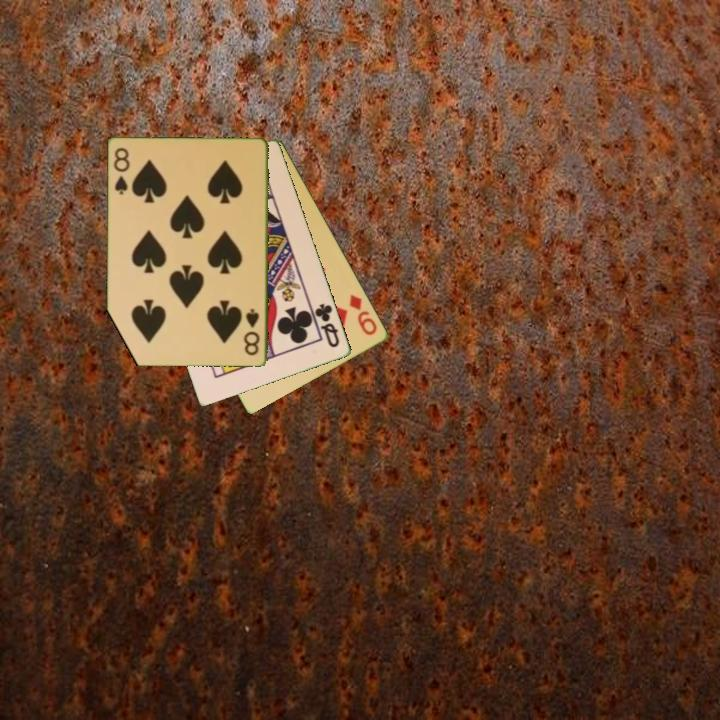8s: (111, 145, 133, 198), (242, 306, 263, 359)
9d: (346, 291, 380, 338)
Qc: (311, 300, 343, 351)
